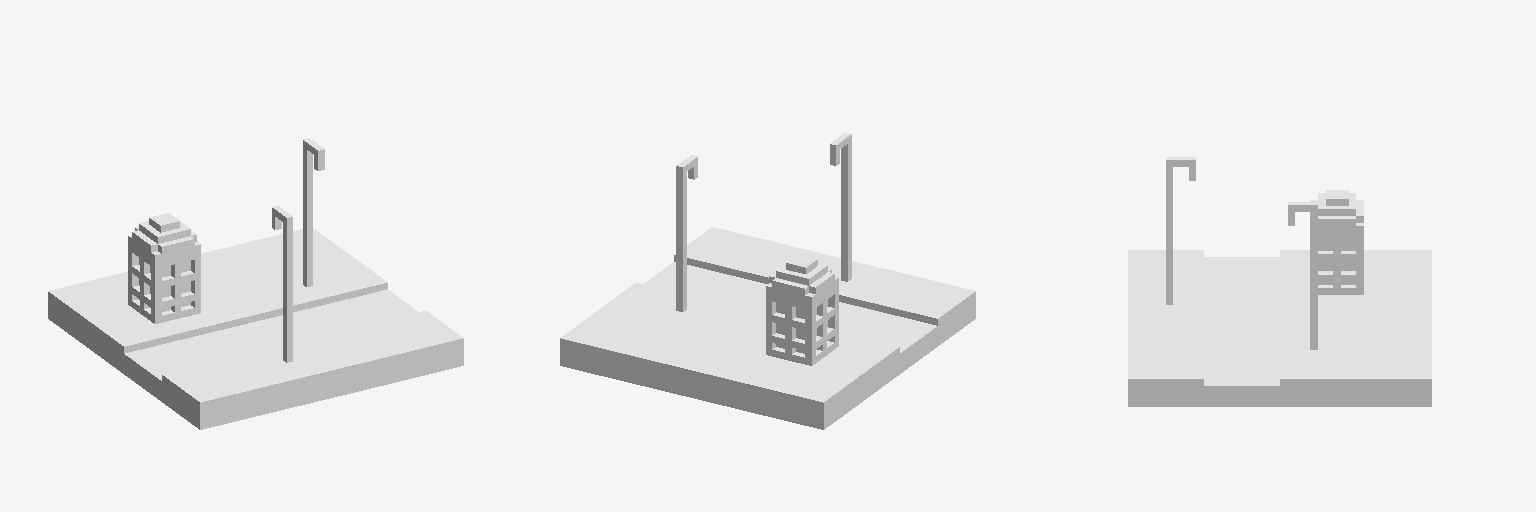
Rendered from LondonStreet.obj.
The picture shows the model from 3 angles: view 1: azimuth 30°, elevation 25°; view 2: azimuth 150°, elevation 25°; view 3: azimuth 270°, elevation 25°; orthographic projection.
Visible parts, largest first — view 1: object 1; view 2: object 1; view 3: object 1.
Part boxes in pixels (x1,y1,x2,y2): object 1: (48,138,463,429); object 1: (560,133,975,429); object 1: (1128,157,1431,406).
Bounding box in the file's own units: 4 × 2.5 × 4.